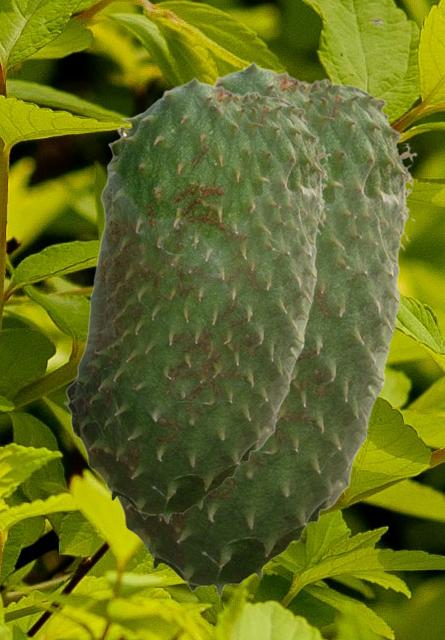guyabano: (102, 60, 416, 595), (63, 76, 330, 522)
